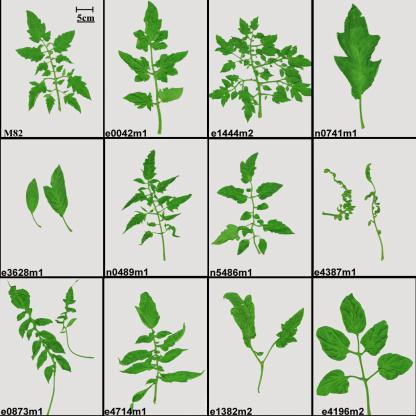tomato leaf: (325, 4, 388, 101), (134, 2, 167, 53), (116, 50, 150, 84), (153, 47, 188, 79), (152, 87, 190, 108), (139, 146, 161, 180), (251, 181, 287, 201), (239, 146, 256, 187)
